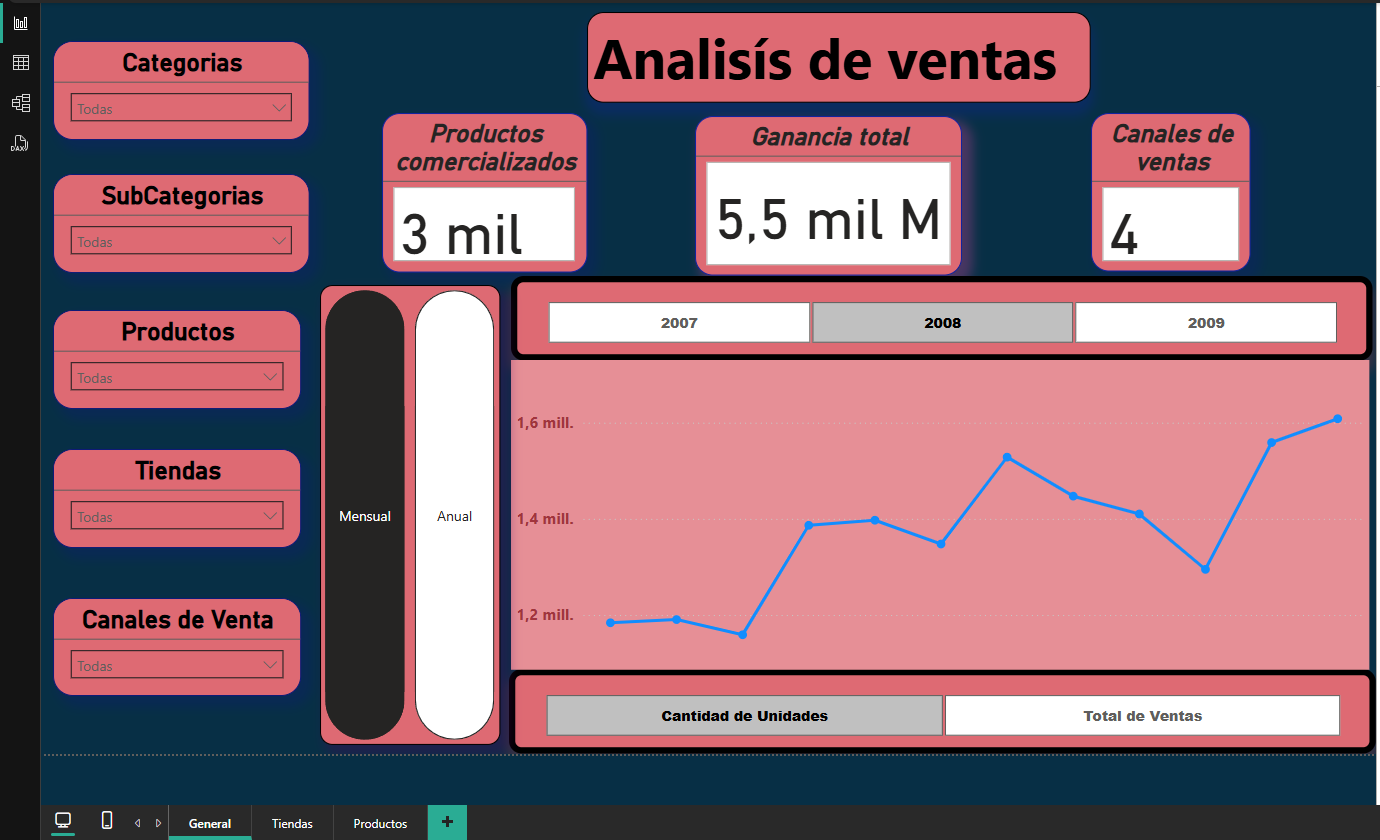

What the dashboard file says about the page in this screenshot:
{"tool":"powerbi","page":{"name":"General","canvas":[1280,720],"ordinal":0},"visuals":[{"type":"textbox","box":[523.8,8.6,483,87.1],"z":0},{"type":"cardVisual","title":"Ganancia Fisíca total","fields":{"Data":["medidas.Total Ventas"]},"box":[482.8,104,310.9,153.1],"z":1000},{"type":"cardVisual","title":"Productos comercializados","fields":{"Data":["medidas.Cantidad Canales Utilizados"]},"box":[266.5,104,196.4,153.1],"z":3000},{"type":"cardVisual","title":"Canales de ventas","fields":{"Data":["medidas.Canales de Ventas"]},"box":[1098.8,104,153.1,153.1],"z":4000},{"type":"slicer","title":"Canales de Venta","fields":{"Values":["dim_canal_venta.nombre_canal_venta"]},"box":[11.6,481,237.6,94.3],"z":5000},{"type":"slicer","title":"Categorias","fields":{"Values":["dim_prod_sub.nombre_categoria"]},"box":[11.6,17.5,246.9,95.5],"z":6000},{"type":"slicer","title":"SubCategorias","fields":{"Values":["dim_prod_sub.nombre_subcategoria"]},"box":[11.6,132.8,246.9,95.5],"z":7000},{"type":"slicer","title":"Tiendas","fields":{"Values":["dim_tienda.nombre_tienda"]},"box":[11.6,368,237.6,94.3],"z":8000},{"type":"slicer","fields":{"Values":["Analisis Ventas Filtrado.Analisis Ventas Filtrado"]},"box":[448.5,638.9,831.5,80.7],"z":9000},{"type":"slicer","title":"Productos","fields":{"Values":["dim_producto.nombre_producto"]},"box":[16.3,248.1,237.6,94.3],"z":10000},{"type":"slicer","fields":{"Values":["AniosConVentas.Anio"]},"box":[450.7,261.4,826.1,80.7],"z":11000},{"type":"lineChart","title":"Ganancias Mensuales","fields":{"Y":["medidas.Total Ventas Filtrado"],"Category":["dim_calendario.fecha.Variación.Jerarquía de fechas.Mes"]},"box":[453.6,342.4,823.5,296.2],"z":13000},{"type":"bookmarkNavigator","box":[264.1,342.1,187,131.6],"z":14000},{"type":"cardVisual","title":"Ganancia Online total","fields":{"Data":["medidas.Total Ventas Online"]},"box":[804.2,104,284.1,153.1],"z":15000},{"type":"slicer","title":"Pais","fields":{"Values":["dim_geografia.pais"]},"box":[16.3,603.3,237.6,94.3],"z":16000}]}

Visuals, with their boxes on the page's 1280x720 design canvas (x1, y1, x2, y2). These are canvas units, not pixel positions in the 1380x840 screenshot, which may show the page scaled, cropped or inside an application window:
textbox: {"left": 524, "top": 9, "right": 1007, "bottom": 96}
"Ganancia Fisíca total" cardVisual: {"left": 483, "top": 104, "right": 794, "bottom": 257}
"Productos comercializados" cardVisual: {"left": 266, "top": 104, "right": 463, "bottom": 257}
"Canales de ventas" cardVisual: {"left": 1099, "top": 104, "right": 1252, "bottom": 257}
"Canales de Venta" slicer: {"left": 12, "top": 481, "right": 249, "bottom": 575}
"Categorias" slicer: {"left": 12, "top": 18, "right": 258, "bottom": 113}
"SubCategorias" slicer: {"left": 12, "top": 133, "right": 258, "bottom": 228}
"Tiendas" slicer: {"left": 12, "top": 368, "right": 249, "bottom": 462}
slicer - Analisis Ventas Filtrado.Analisis Ventas Filtrado: {"left": 448, "top": 639, "right": 1280, "bottom": 720}
"Productos" slicer: {"left": 16, "top": 248, "right": 254, "bottom": 342}
slicer - AniosConVentas.Anio: {"left": 451, "top": 261, "right": 1277, "bottom": 342}
"Ganancias Mensuales" lineChart: {"left": 454, "top": 342, "right": 1277, "bottom": 639}
bookmarkNavigator: {"left": 264, "top": 342, "right": 451, "bottom": 474}
"Ganancia Online total" cardVisual: {"left": 804, "top": 104, "right": 1088, "bottom": 257}
"Pais" slicer: {"left": 16, "top": 603, "right": 254, "bottom": 698}
